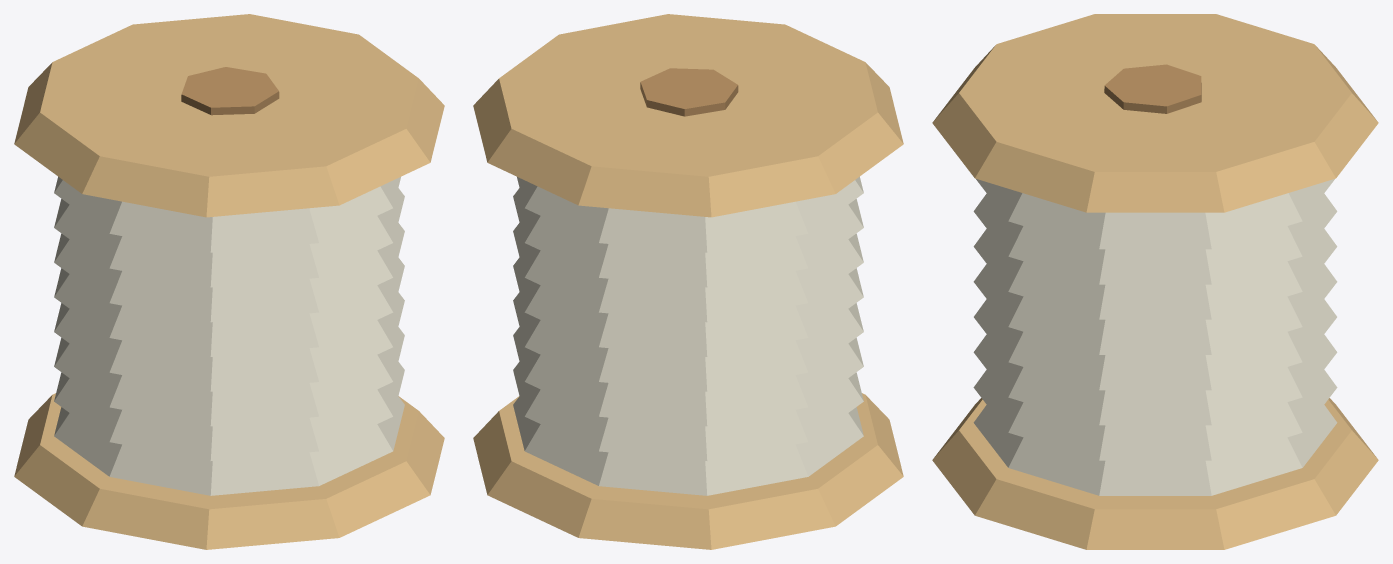
The model's file is CC_ResourceSilk.fbx.
3 views of the same model, side by side, from view 1: azimuth 30°, elevation 25°; view 2: azimuth 150°, elevation 25°; view 3: azimuth 270°, elevation 25° (orthographic).
Visible parts, largest first — view 1: Spool rim.001, Spool rim, Silk wrap.006, Silk wrap.003, Silk wrap.002, Silk wrap, Silk wrap.001, Silk wrap.004, Silk wrap.005, Silk wrap.007, Spindle; view 2: Spool rim.001, Spool rim, Silk wrap.006, Silk wrap.003, Silk wrap.002, Silk wrap, Silk wrap.001, Silk wrap.004, Silk wrap.005, Silk wrap.007, Spindle; view 3: Spool rim.001, Spool rim, Silk wrap.001, Silk wrap.004, Silk wrap, Silk wrap.002, Silk wrap.003, Silk wrap.006, Silk wrap.005, Silk wrap.007, Spindle.
Boxes of the visible parts, bbox=[...] form: Spool rim.001: bbox=[14, 14, 444, 217]; Spool rim: bbox=[14, 393, 444, 549]; Silk wrap.006: bbox=[54, 188, 404, 287]; Silk wrap.003: bbox=[54, 292, 404, 391]; Silk wrap.002: bbox=[54, 327, 404, 426]; Silk wrap: bbox=[54, 396, 404, 495]; Silk wrap.001: bbox=[54, 362, 404, 460]; Silk wrap.004: bbox=[54, 257, 404, 356]; Silk wrap.005: bbox=[54, 223, 404, 322]; Silk wrap.007: bbox=[54, 176, 400, 252]; Spindle: bbox=[181, 67, 279, 115]; Spool rim.001: bbox=[473, 14, 903, 217]; Spool rim: bbox=[473, 393, 903, 549]; Silk wrap.006: bbox=[513, 188, 863, 287]; Silk wrap.003: bbox=[513, 292, 863, 391]; Silk wrap.002: bbox=[513, 327, 863, 426]; Silk wrap: bbox=[513, 396, 863, 495]; Silk wrap.001: bbox=[513, 362, 863, 460]; Silk wrap.004: bbox=[513, 257, 863, 356]; Silk wrap.005: bbox=[513, 223, 863, 322]; Silk wrap.007: bbox=[517, 176, 863, 252]; Spindle: bbox=[640, 68, 738, 116]; Spool rim.001: bbox=[932, 14, 1378, 212]; Spool rim: bbox=[932, 398, 1378, 549]; Silk wrap.001: bbox=[973, 369, 1337, 460]; Silk wrap.004: bbox=[973, 264, 1337, 354]; Silk wrap: bbox=[973, 405, 1337, 495]; Silk wrap.002: bbox=[973, 334, 1337, 425]; Silk wrap.003: bbox=[974, 299, 1336, 390]; Silk wrap.006: bbox=[973, 193, 1337, 284]; Silk wrap.005: bbox=[973, 229, 1337, 319]; Silk wrap.007: bbox=[976, 179, 1334, 249]; Spindle: bbox=[1104, 64, 1201, 113].
Bounding box in the file's own units: 0.5136 × 0.55 × 0.54.
